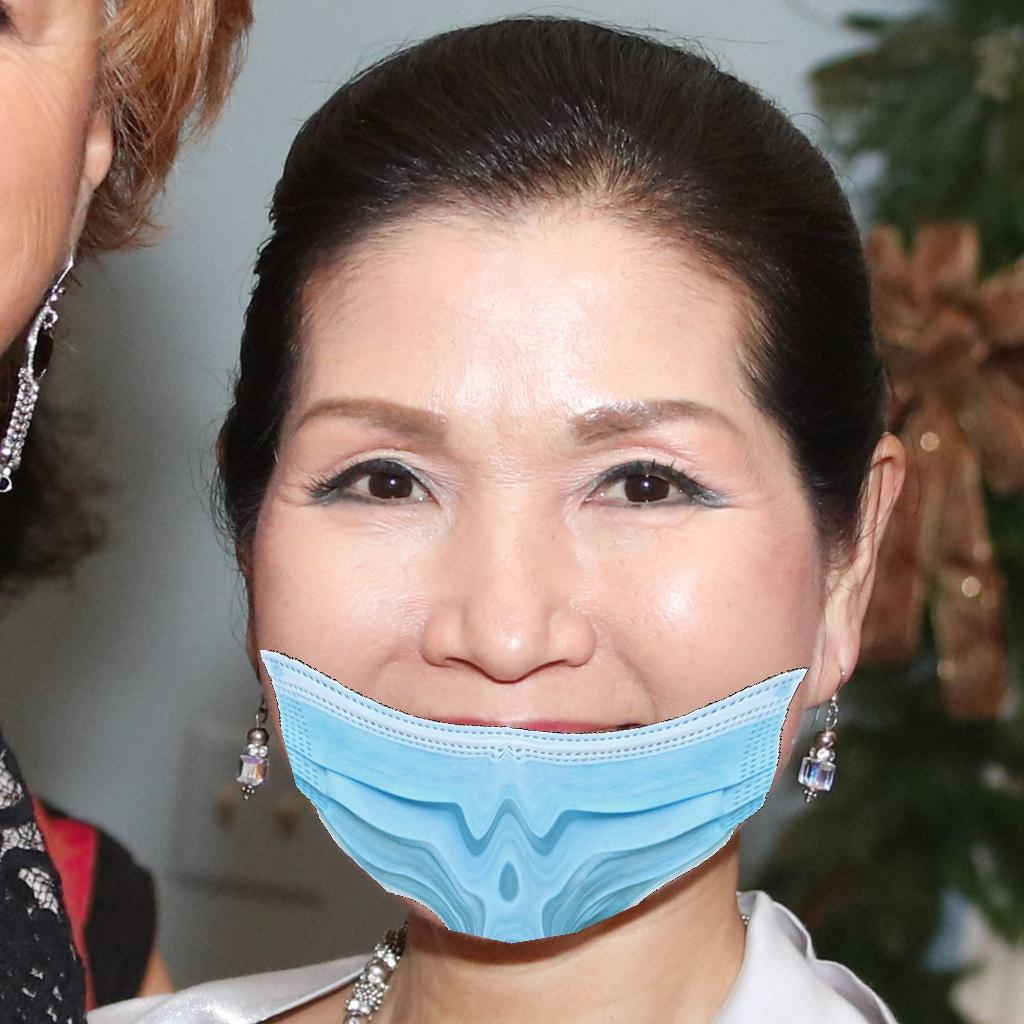Máscara Incorreta: (242, 316, 825, 939)
